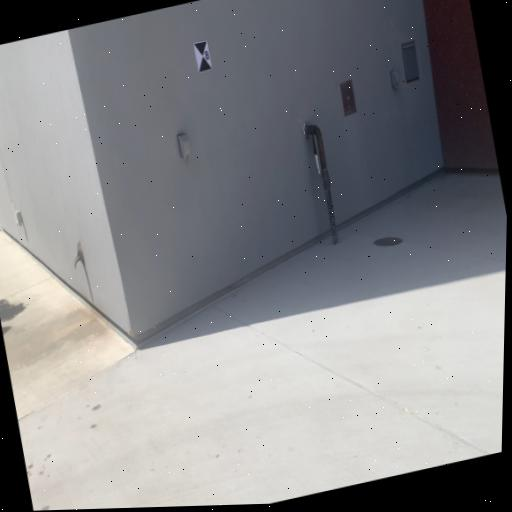target8: (193, 39, 214, 73)
